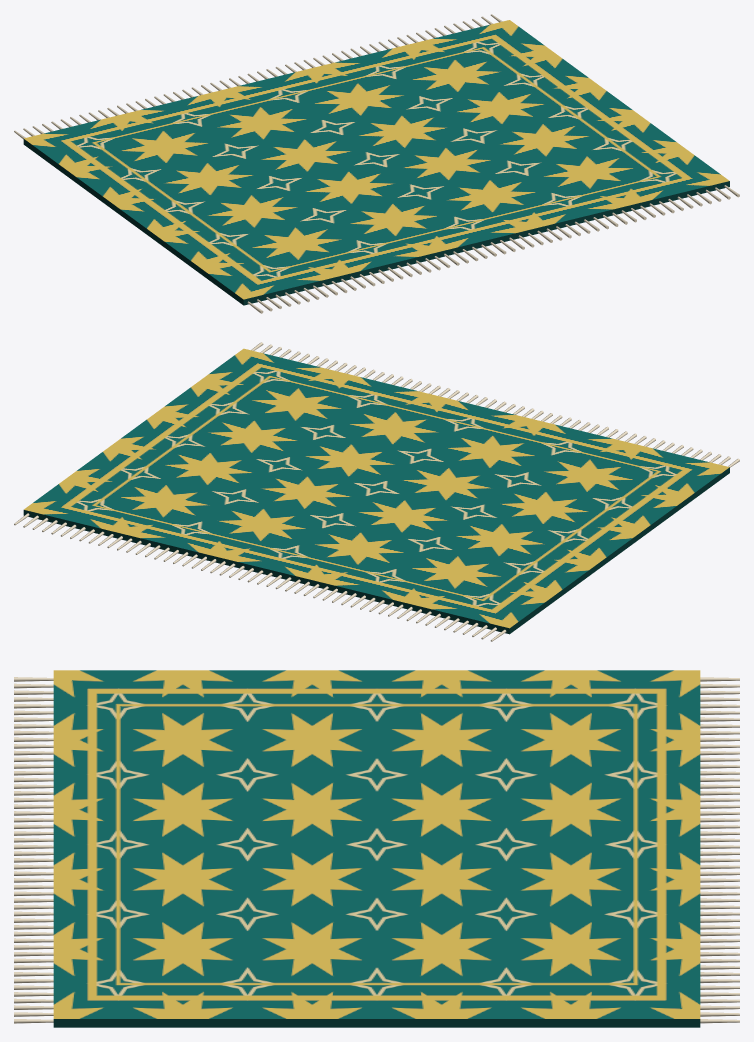
Rendered from carpet_arabic.glb.
The picture shows the model from 3 angles, top to bottom: view 1: azimuth 30°, elevation 25°; view 2: azimuth 150°, elevation 25°; view 3: azimuth 270°, elevation 25°; orthographic projection. The views are drawn at different scales.
Parts seen in each view (by area): view 1: carpet; view 2: carpet; view 3: carpet.
Part boxes in pixels (bbox=[...]): carpet: bbox=[23, 20, 729, 305]; carpet: bbox=[23, 348, 729, 634]; carpet: bbox=[53, 670, 700, 1027].
Size of the model in its own units: 1.02 by 0.012 by 0.898.
Materials: 3 (1 with a texture image).
